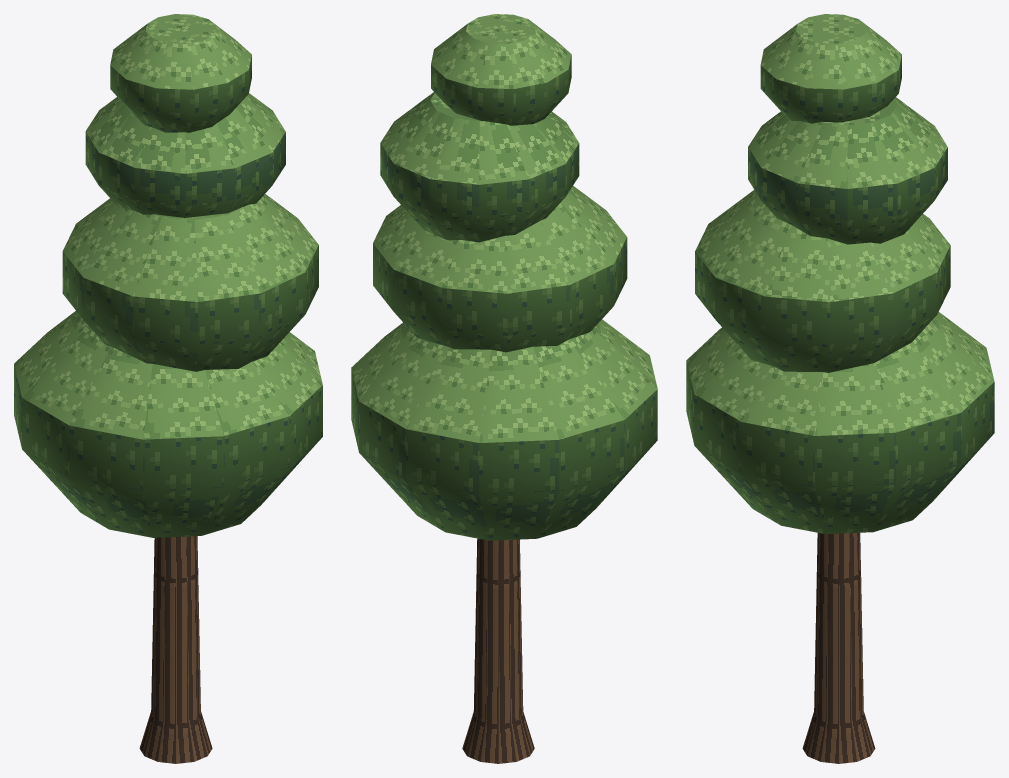
File: poplar_2.glb
3 renders of one model, left to right at view 1: azimuth 30°, elevation 25°; view 2: azimuth 150°, elevation 25°; view 3: azimuth 270°, elevation 25°, orthographic.
Visible parts, largest first — view 1: poplar_3; view 2: poplar_3; view 3: poplar_3.
Part boxes in pixels (left/top/right/bottom): poplar_3: left=14, top=14, right=322, bottom=763; poplar_3: left=351, top=14, right=657, bottom=763; poplar_3: left=686, top=14, right=994, bottom=763.
Size of the model in its own units: 1.86 by 4.8 by 1.86.
Materials: 3 (3 with a texture image).
